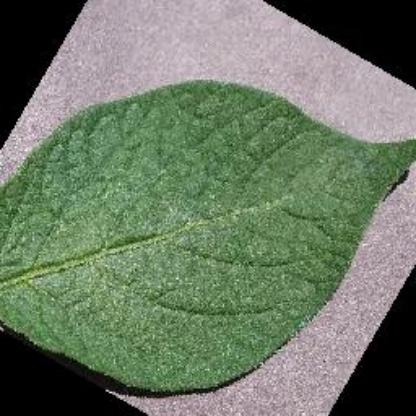Healthy-plant: (0, 80, 416, 392)
